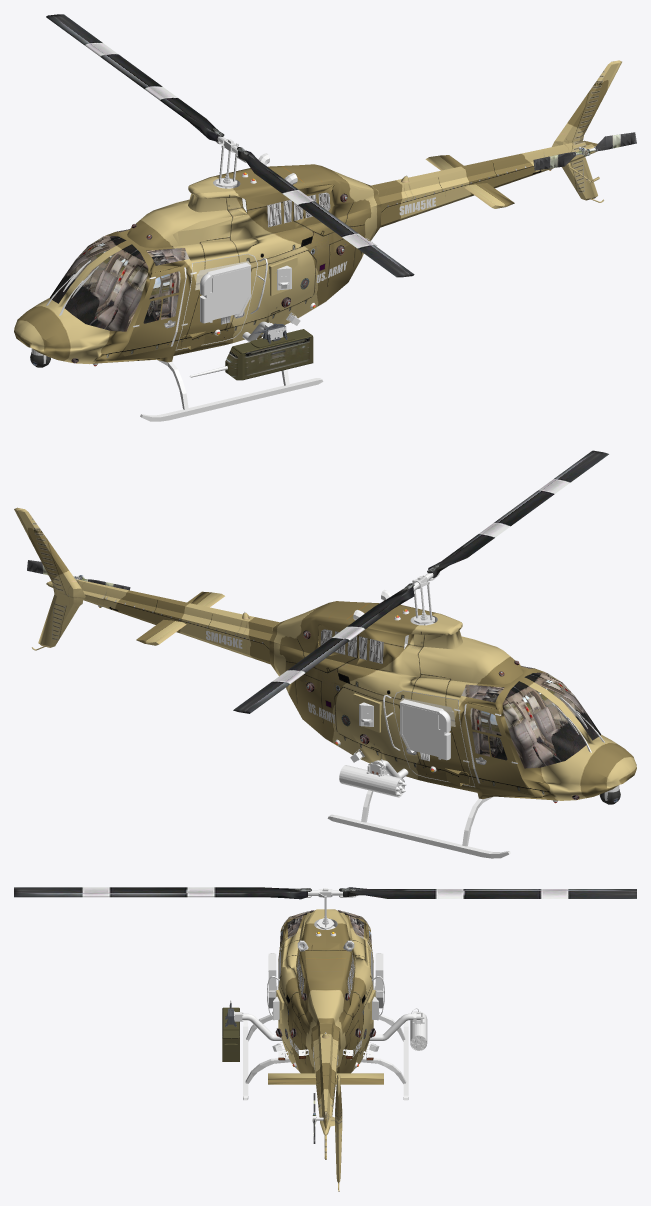
The picture shows the model from 3 angles, top to bottom: view 1: azimuth 30°, elevation 25°; view 2: azimuth 150°, elevation 25°; view 3: azimuth 270°, elevation 25°; orthographic projection. The views are drawn at different scales.
Parts seen in each view (by area): view 1: bell_20621, bell_20605, bell_206_h, bell_206_t, bell_20603, Group6, bell_lar01, bell_large, Group3, bell_20619, bell_20613, bell_206_e (+3 smaller); view 2: bell_20613, bell_20608, bell_206_e, bell_20616, bell_20610, Group3, bell_lar01, bell_large, bell_20617, bell_20621, bell206_la, bell_20605 (+3 smaller); view 3: bell_large, bell_lar01, bell_206_h, bell_20608, bell_20605, bell_206_e, Group6, bell_206_t, bell_20616, bell206_la, bell206_01, Group3 (+4 smaller).
Boxes of the visible parts, left/top/right/bottom form: bell_20621: left=20, top=241, right=261, bottom=364; bell_20605: left=134, top=171, right=381, bottom=248; bell_206_h: left=173, top=204, right=381, bottom=355; bell_206_t: left=374, top=141, right=597, bottom=227; bell_20603: left=175, top=253, right=257, bottom=350; Group6: left=189, top=321, right=313, bottom=380; bell_lar01: left=46, top=14, right=228, bottom=148; bell_large: left=230, top=143, right=414, bottom=277; Group3: left=552, top=60, right=621, bottom=200; bell_20619: left=123, top=265, right=186, bottom=356; bell_20613: left=14, top=229, right=133, bottom=342; bell_206_e: left=127, top=153, right=373, bottom=240; bell_20613: left=459, top=678, right=630, bottom=800; bell_20608: left=269, top=641, right=477, bottom=792; bell_206_e: left=269, top=608, right=516, bottom=684; bell_20616: left=46, top=579, right=275, bottom=664; bell_20610: left=393, top=690, right=474, bottom=787; Group3: left=14, top=507, right=85, bottom=647; bell_lar01: left=233, top=580, right=429, bottom=713; bell_large: left=412, top=450, right=608, bottom=582; bell_20617: left=464, top=702, right=527, bottom=793; bell_20621: left=517, top=666, right=636, bottom=778; bell206_la: left=327, top=772, right=510, bottom=858; bell_20605: left=277, top=589, right=523, bottom=677; bell_large: left=14, top=887, right=326, bottom=899; bell_lar01: left=324, top=887, right=636, bottom=898; bell_206_h: left=267, top=932, right=313, bottom=1073; bell_20608: left=337, top=932, right=384, bottom=1073; bell_20605: left=296, top=909, right=325, bottom=1031; bell_206_e: left=326, top=909, right=355, bottom=1031; Group6: left=222, top=1000, right=424, bottom=1061; bell_206_t: left=268, top=1023, right=325, bottom=1135; bell_20616: left=326, top=1023, right=383, bottom=1135; bell206_la: left=361, top=1014, right=408, bottom=1100; bell206_01: left=243, top=1014, right=290, bottom=1100; Group3: left=330, top=1074, right=342, bottom=1183.
Size of the model in its own units: 8664 by 2981 by 8718.
Materials: 43 (23 with a texture image).
